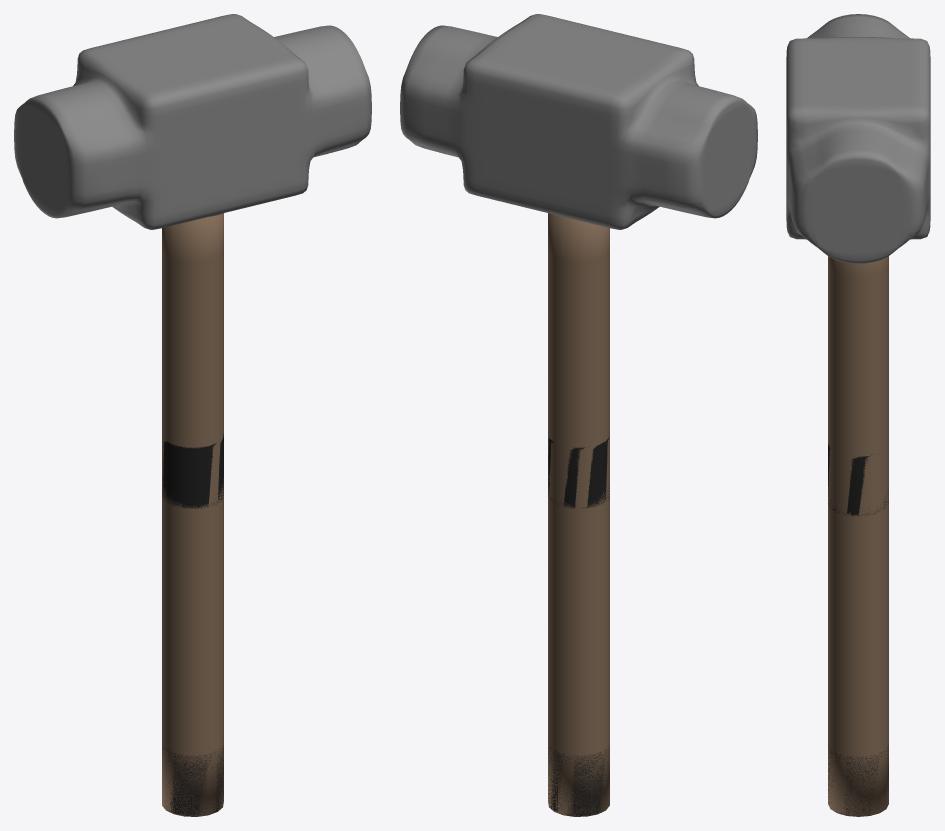
The model's file is Sledge_Hammer.glb.
3 views of the same model, side by side, from view 1: azimuth 30°, elevation 25°; view 2: azimuth 150°, elevation 25°; view 3: azimuth 270°, elevation 25° (orthographic). The views are drawn at different scales.
Parts seen in each view (by area): view 1: Hammer_Head-col, Wood-col, Handle-col; view 2: Hammer_Head-col, Wood-col, Handle-col; view 3: Wood-col, Hammer_Head-col, Handle-col.
Boxes of the visible parts, <box> form: Hammer_Head-col: <box>14,14,371,229</box>; Wood-col: <box>162,213,223,816</box>; Handle-col: <box>162,433,223,816</box>; Hammer_Head-col: <box>400,14,757,229</box>; Wood-col: <box>548,213,609,816</box>; Handle-col: <box>548,437,609,816</box>; Wood-col: <box>828,256,888,816</box>; Hammer_Head-col: <box>786,14,930,263</box>; Handle-col: <box>828,444,888,816</box>.
Bounding box in the file's own units: 0.2126 × 0.509 × 0.091.
